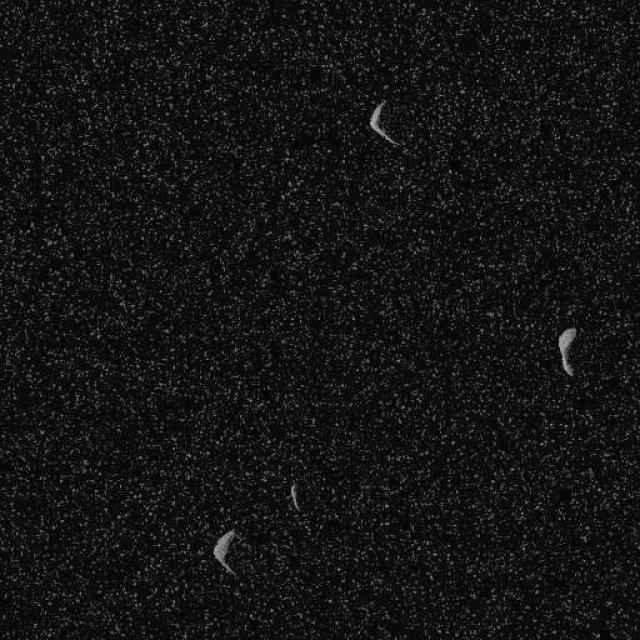D2: (368, 99, 402, 146), (212, 528, 238, 576), (556, 325, 576, 376), (288, 480, 302, 511)
